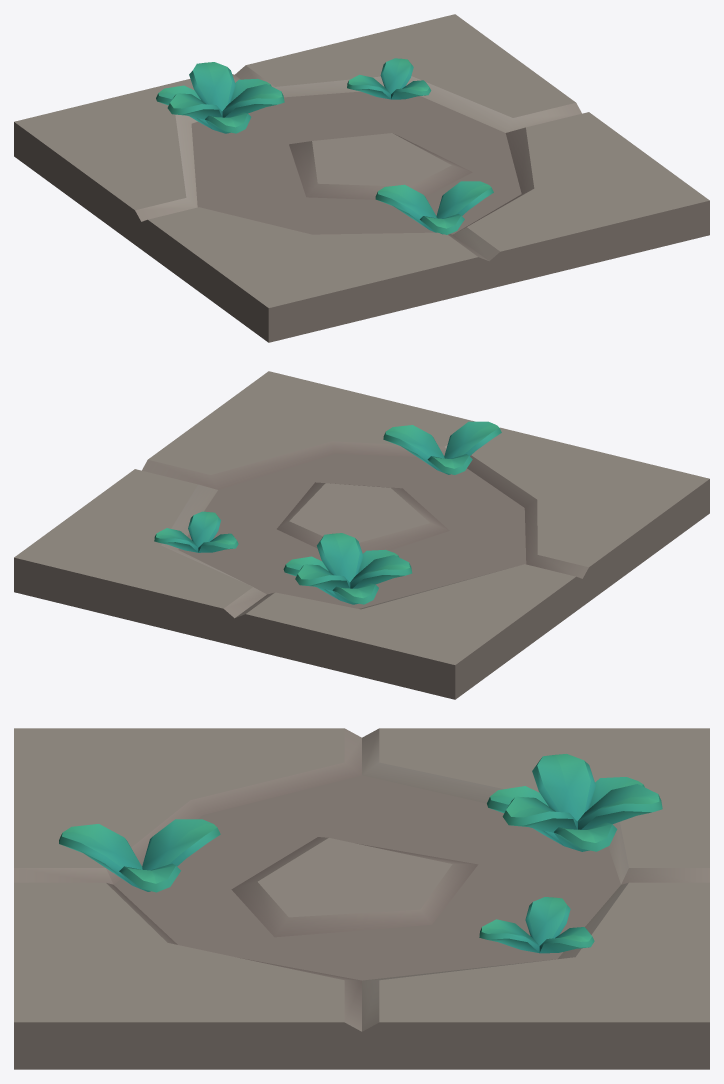
Rendered from floor_tile_small_weeds_A.gltf.
3 renders of one model, top to bottom at view 1: azimuth 30°, elevation 25°; view 2: azimuth 150°, elevation 25°; view 3: azimuth 270°, elevation 25°, orthographic. The views are drawn at different scales.
Parts seen in each view (by area): view 1: floor_tile_small_weeds_A; view 2: floor_tile_small_weeds_A; view 3: floor_tile_small_weeds_A.
Boxes of the visible parts, left/top/right/bottom form: floor_tile_small_weeds_A: left=14, top=14, right=709, bottom=342; floor_tile_small_weeds_A: left=14, top=371, right=709, bottom=699; floor_tile_small_weeds_A: left=14, top=728, right=709, bottom=1069.
Size of the model in its own units: 2 by 0.2955 by 2.
Materials: 1 (1 with a texture image).
